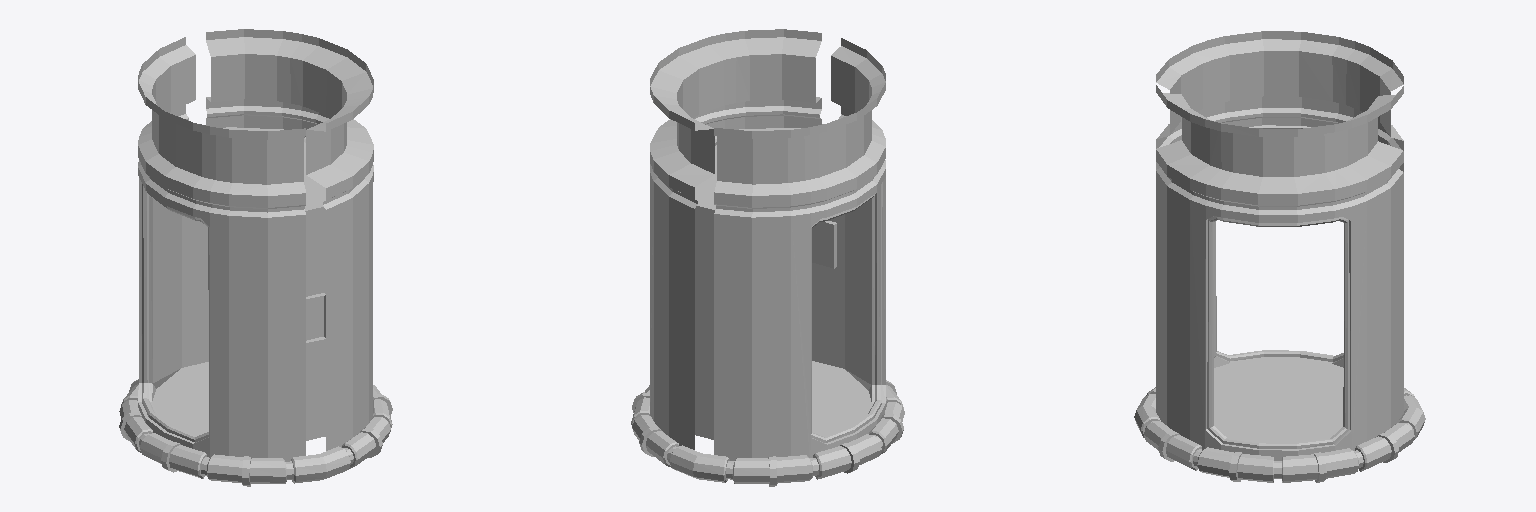
File: elevator lift.obj
3 views of the same model, side by side, from view 1: azimuth 30°, elevation 25°; view 2: azimuth 150°, elevation 25°; view 3: azimuth 270°, elevation 25° (orthographic).
Visible parts, largest first — view 1: elevator1ElevatorBody2 group1; view 2: elevator1ElevatorBody2 group1; view 3: elevator1ElevatorBody2 group1.
Boxes of the visible parts, x1=… form: elevator1ElevatorBody2 group1: x1=119, y1=29, x2=392, y2=486; elevator1ElevatorBody2 group1: x1=631, y1=29, x2=904, y2=486; elevator1ElevatorBody2 group1: x1=1134, y1=31, x2=1425, y2=482.
Bounding box in the file's own units: 14.82 × 21.13 × 15.9.